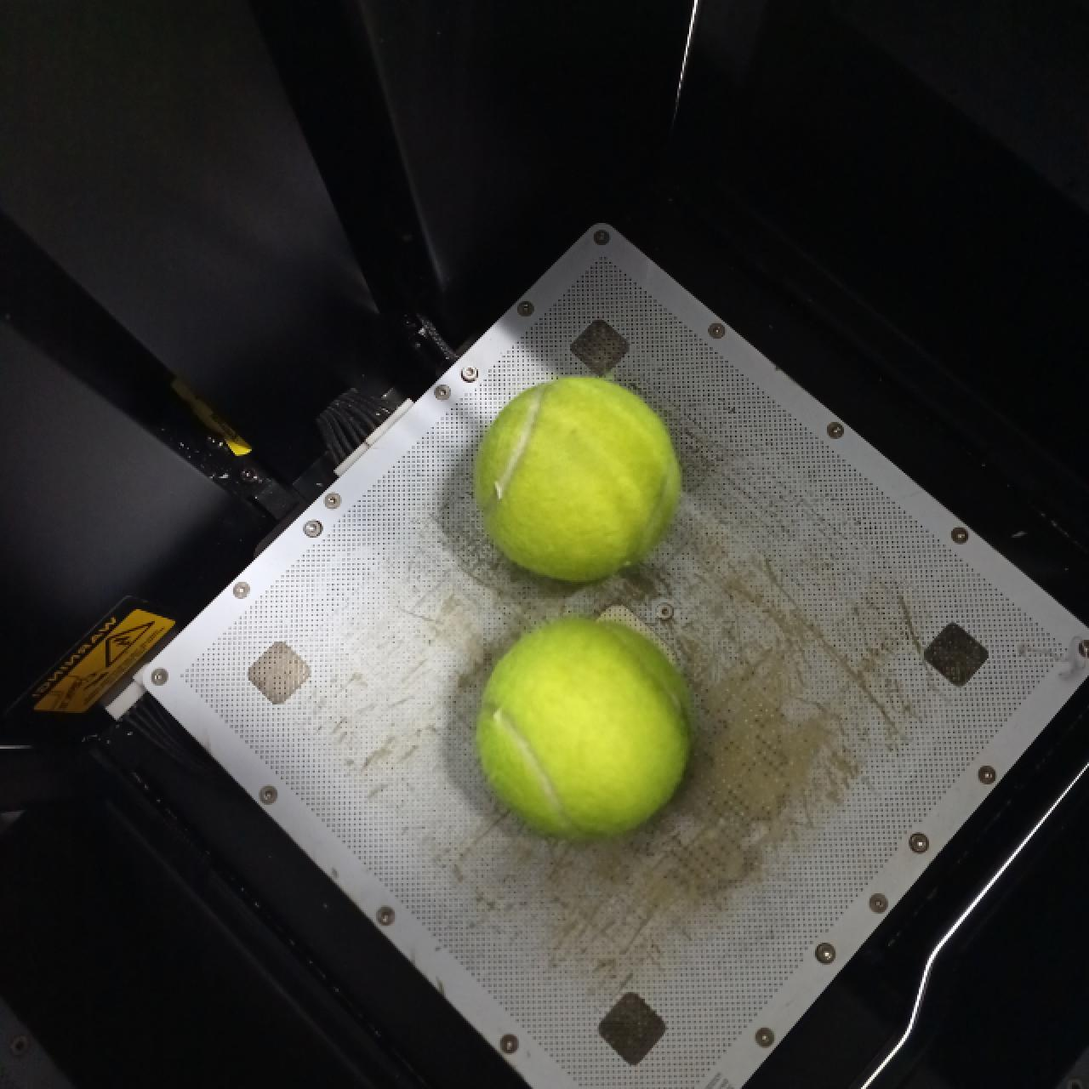tennis-ball: (473, 619, 690, 840), (469, 374, 684, 583)
